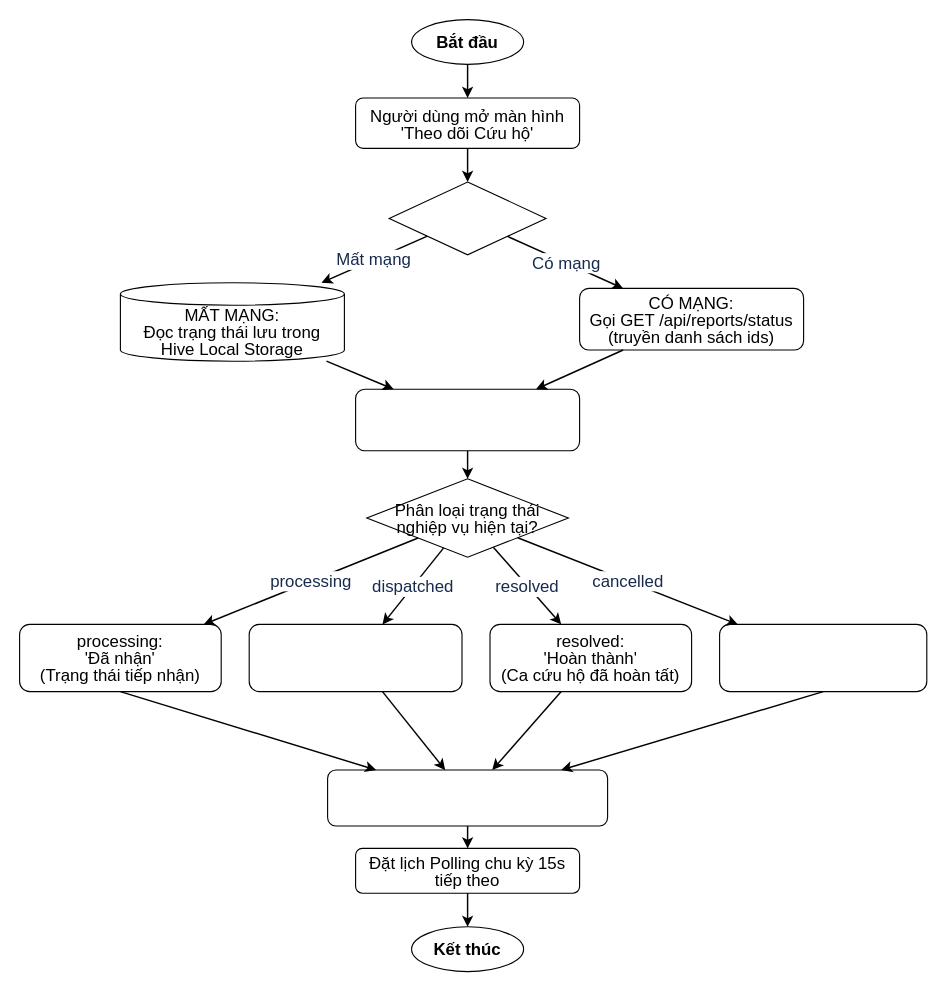
The diagram is 946 pixels wide and 991 high, and some of its shapes have lost their labels. Each missing label, with the centre of its shape:
"cancelled: 'Báo cáo đã đóng' (Thông báo trạng thái đóng ca)" belongs at (822,657).
"Có kết nối mạng?" belongs at (467,218).
"Cập nhật CSDL cục bộ Hive (Chỉ nhận trạng thái tiến, không lùi)" belongs at (467,419).
"Cập nhật thanh tiến trình giao diện (Timeline trực quan cho người dân)" belongs at (467,797).
"dispatched: 'Đang đến' (Đã điều phối cứu hộ)" belongs at (355,657).
